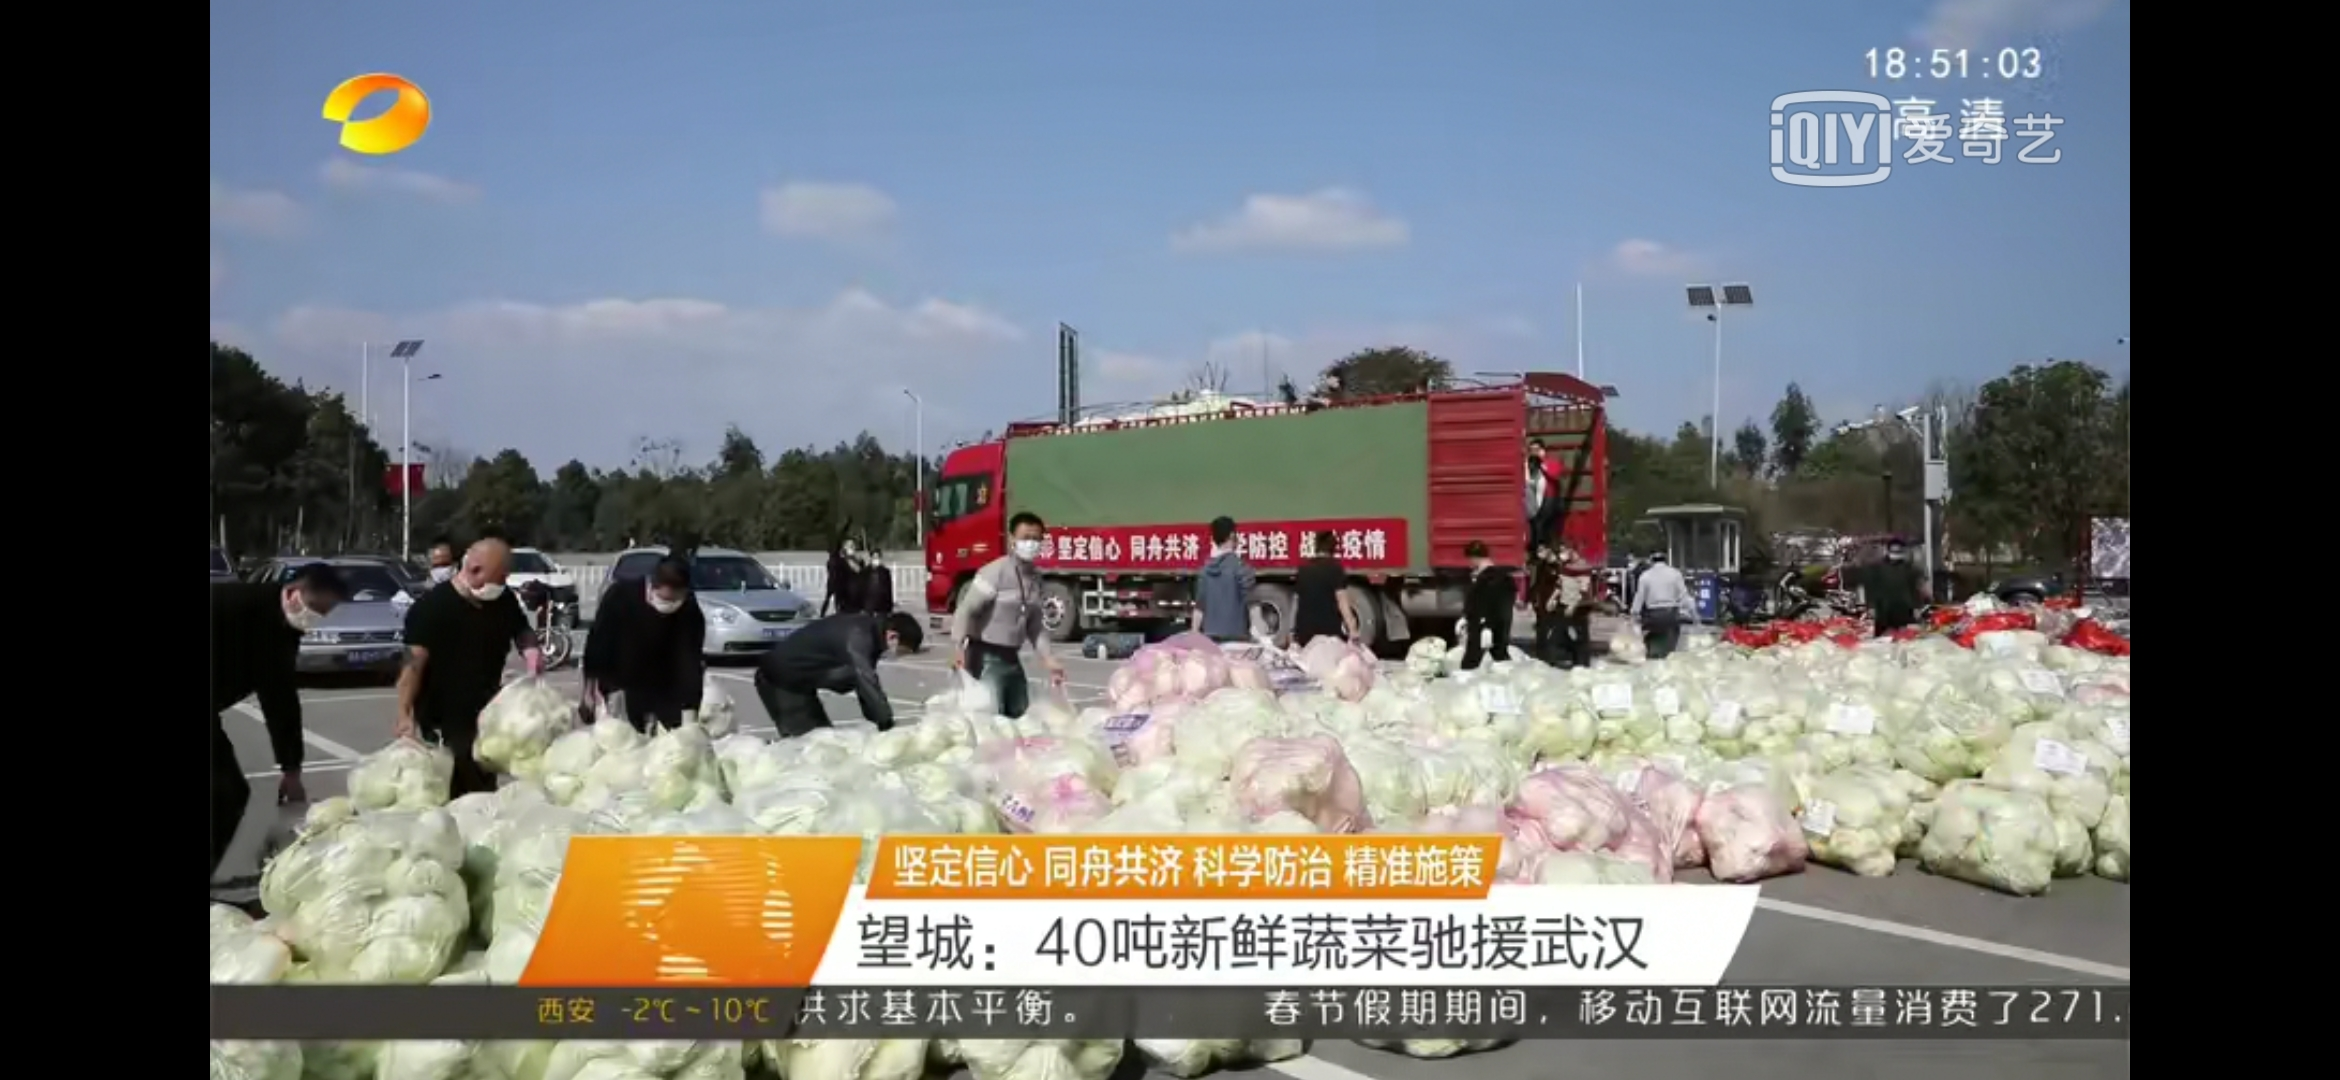correctlyWear: (281, 580, 331, 635), (463, 558, 507, 606), (1007, 527, 1045, 565), (649, 583, 686, 618), (883, 631, 910, 662)
